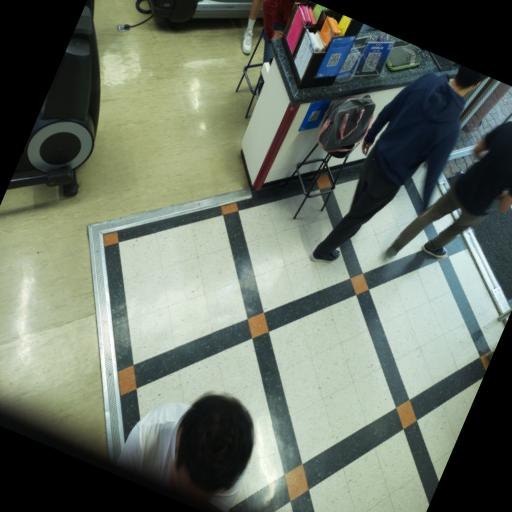person: (310, 65, 484, 262), (385, 122, 511, 257), (116, 395, 252, 511), (262, 0, 302, 62), (241, 0, 262, 54)
